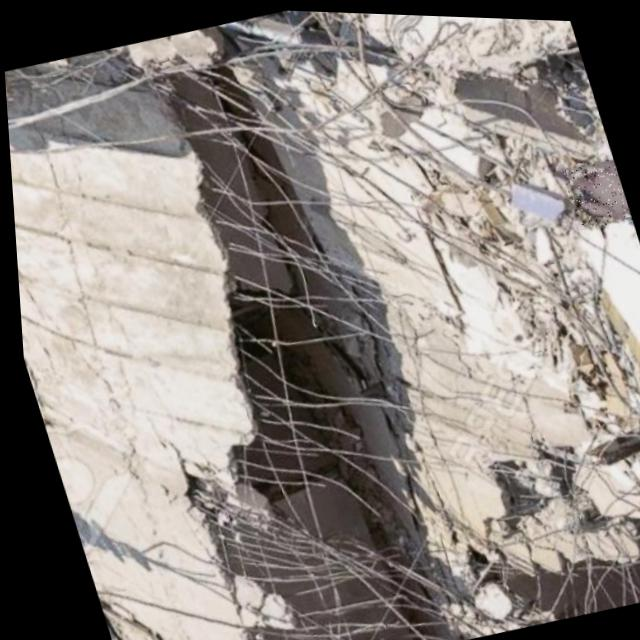Person in Rubble: (558, 150, 630, 226)
